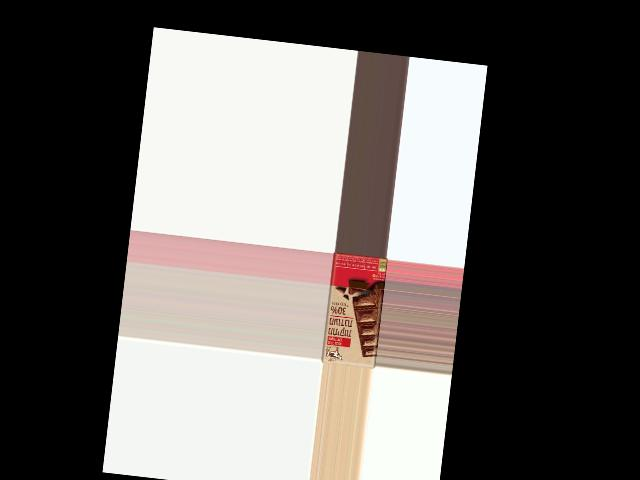chocolate: (320, 252, 387, 368)
